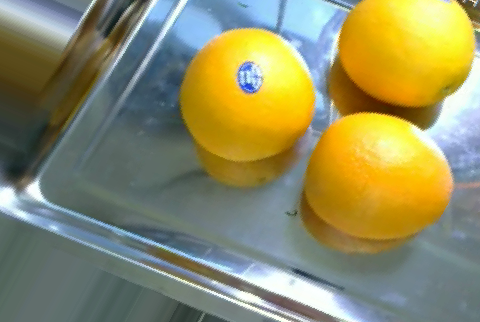Orange: (304, 109, 454, 239), (180, 27, 316, 161), (336, 1, 478, 108)
